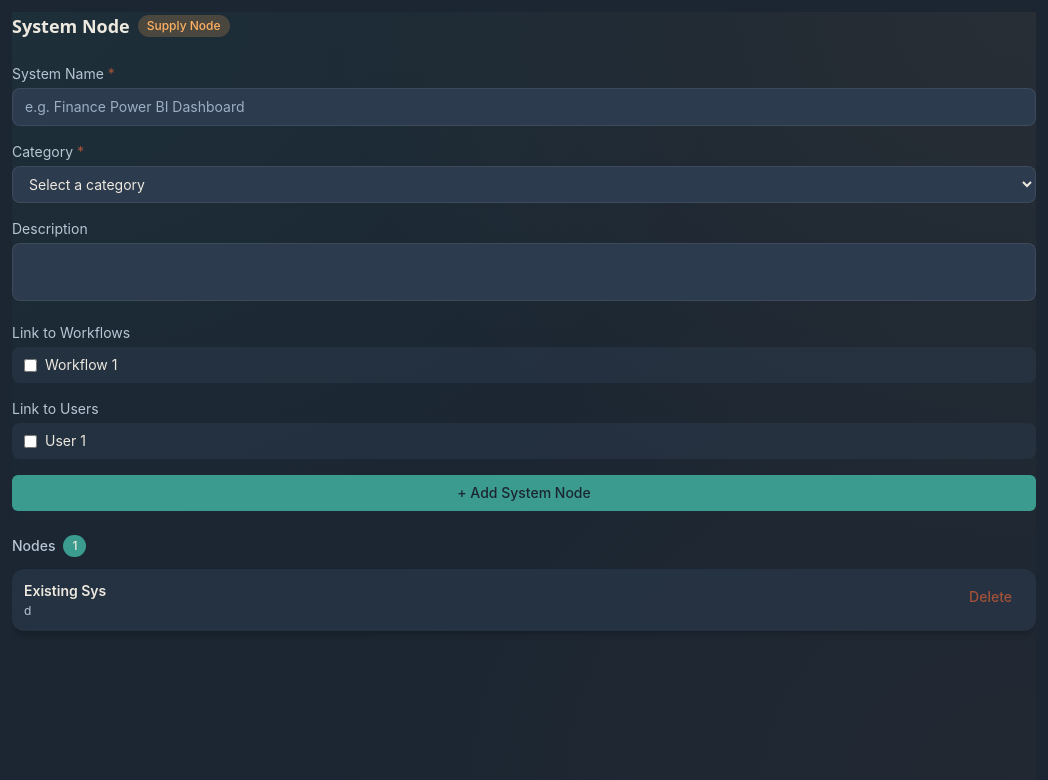
Test: SystemForm › shows validation errors on empty submit
Step 1. Click the button "+ Add System Node" → [524, 493], box [12,475,1036,511]
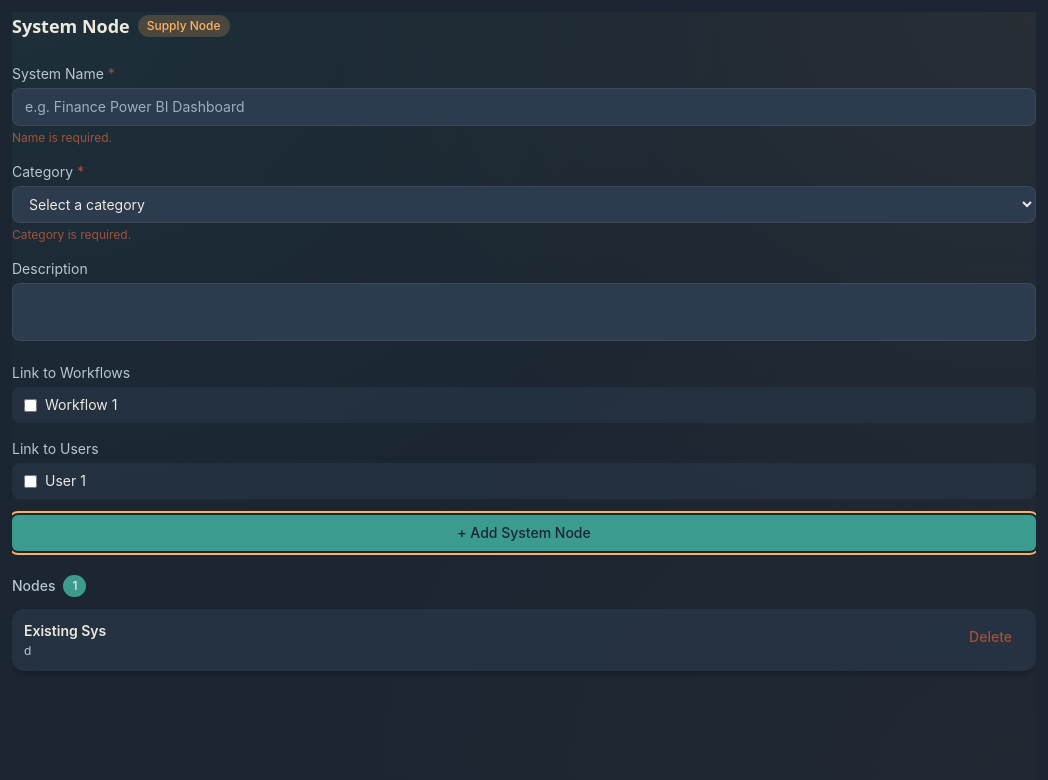
Expected: the text "Name is required." is shown, [12,130,112,145]
Expected: the text "Category is required." is shown, [12,227,131,242]
